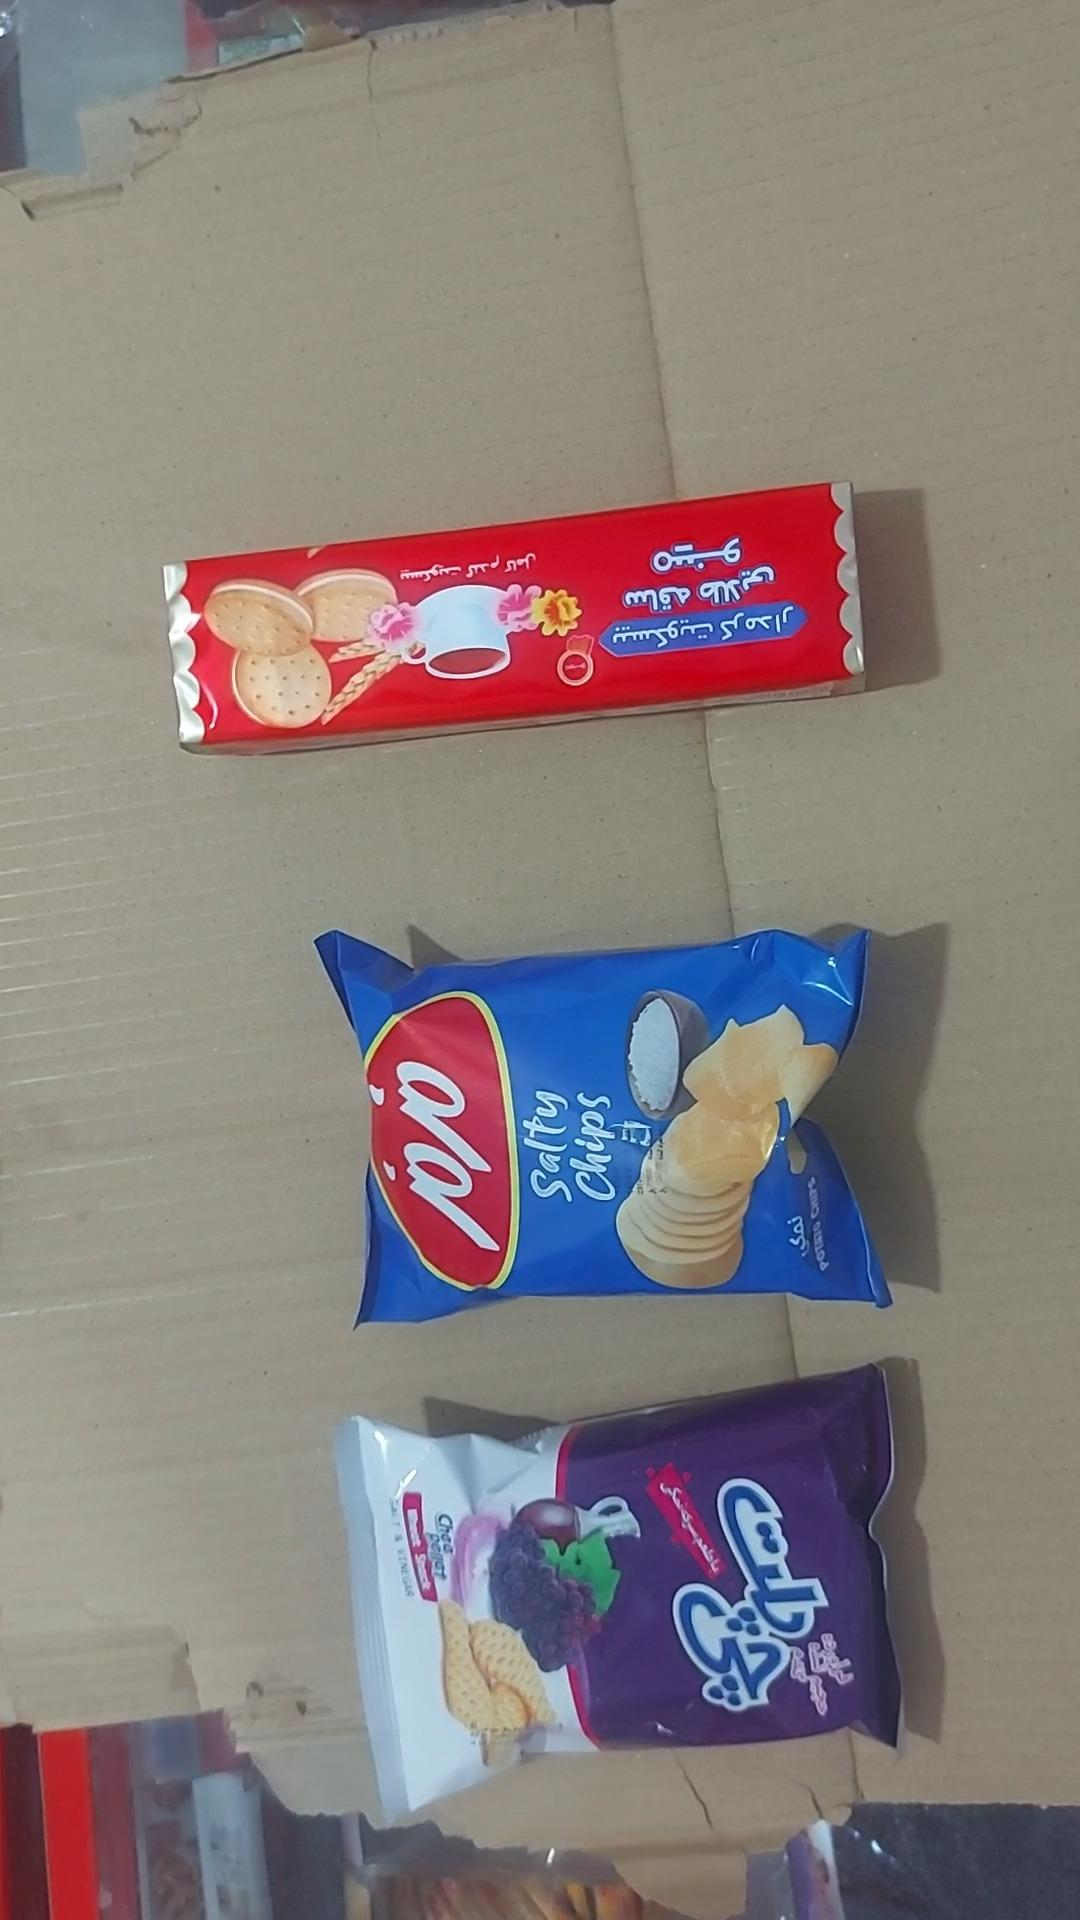Chee pellet vinegar: (334, 1366, 901, 1828)
Maz Maz salty chips: (315, 924, 897, 1327)
Minoo cream biscuit: (164, 481, 868, 756)
